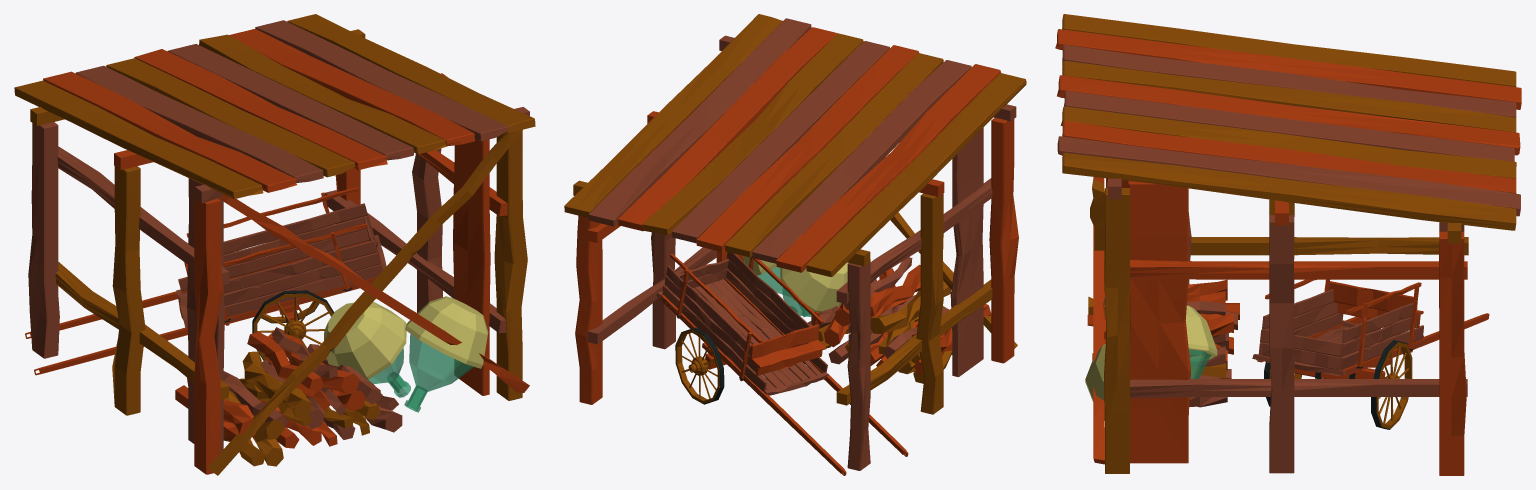
The model's file is woodshed with gig.fbx.
3 views of the same model, side by side, from view 1: azimuth 30°, elevation 25°; view 2: azimuth 150°, elevation 25°; view 3: azimuth 270°, elevation 25° (orthographic). The views are drawn at different scales.
Parts seen in each view (by area): view 1: tettoia, calesse, legna, damigiana, damigiana1; view 2: tettoia, calesse, legna, damigiana1, damigiana; view 3: tettoia, calesse, legna, damigiana1, damigiana.
Part boxes in pixels (x1,y1,x2,y2): tettoia: [14, 14, 535, 475]; calesse: [25, 187, 386, 375]; legna: [175, 327, 402, 466]; damigiana: [404, 296, 488, 412]; damigiana1: [324, 302, 410, 397]; tettoia: [564, 14, 1026, 470]; calesse: [656, 252, 908, 475]; legna: [807, 257, 991, 383]; damigiana1: [780, 262, 848, 316]; damigiana: [743, 256, 809, 317]; tettoia: [1055, 14, 1521, 475]; calesse: [1252, 279, 1489, 429]; legna: [1087, 279, 1239, 407]; damigiana1: [1185, 305, 1217, 378]; damigiana: [1085, 344, 1105, 401].
Bounding box in the file's own units: 365 × 301 × 408.
